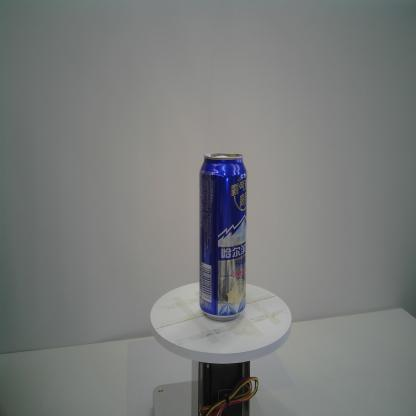Alcohol: (197, 151, 249, 324)
